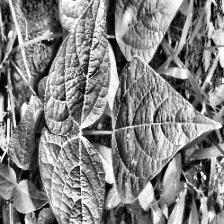ALS: (103, 50, 224, 204)
